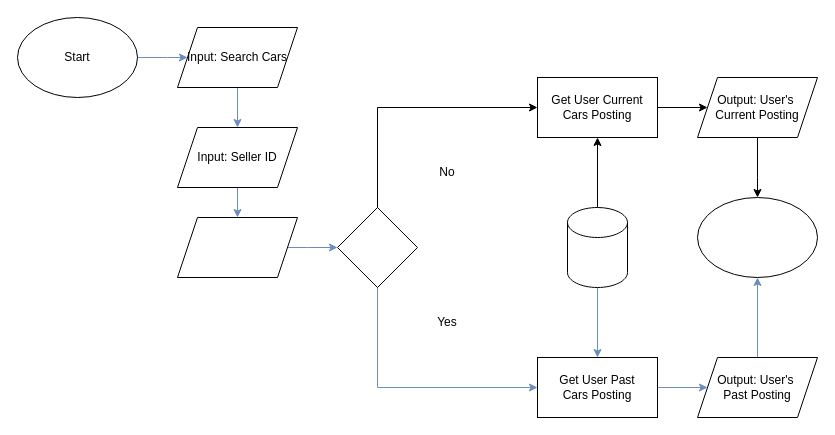
The diagram is 835 pixels wide and 435 high, and some of its shapes have lost their labels. Here are the shapes that lost their labels. From the top down, the centre of each, then its label:
[237,247]: Input: Sold
[377,247]: Sold?
[597,247]: Items Database
[757,237]: End
